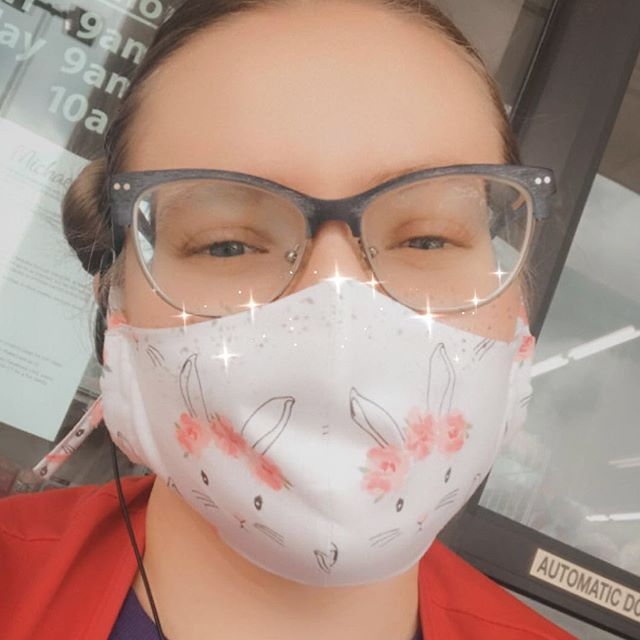homemade: (91, 304, 551, 596)
